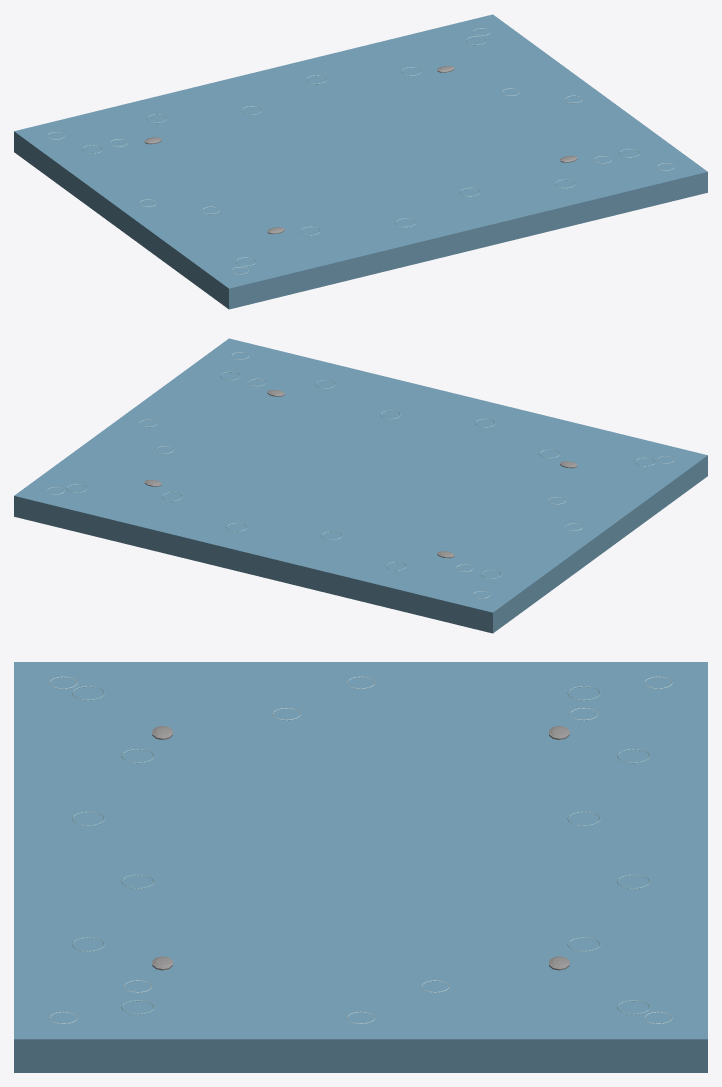
The model's file is foso_agua.glb.
3 views of the same model, one above another, from view 1: azimuth 30°, elevation 25°; view 2: azimuth 150°, elevation 25°; view 3: azimuth 270°, elevation 25° (orthographic). The views are drawn at different scales.
Parts seen in each view (by area): view 1: foso_agua; view 2: foso_agua; view 3: foso_agua.
Part boxes in pixels (left/top/right/bottom): foso_agua: left=14, top=14, right=707, bottom=309; foso_agua: left=14, top=338, right=707, bottom=633; foso_agua: left=14, top=662, right=707, bottom=1072.
Bounding box in the file's own units: 36 × 1.71 × 28.
